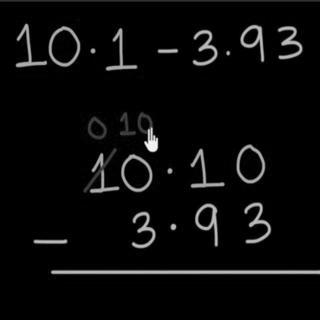.: (87, 42, 99, 60), (222, 46, 234, 63), (167, 218, 178, 235), (167, 165, 175, 180)
0: (45, 21, 81, 73), (229, 140, 267, 189), (119, 153, 159, 198)
1: (180, 140, 229, 190), (102, 23, 141, 77), (11, 17, 48, 71)
3: (124, 204, 159, 252), (185, 25, 220, 69), (240, 199, 272, 247), (273, 21, 304, 64)
9: (190, 197, 224, 252), (237, 20, 267, 65)
